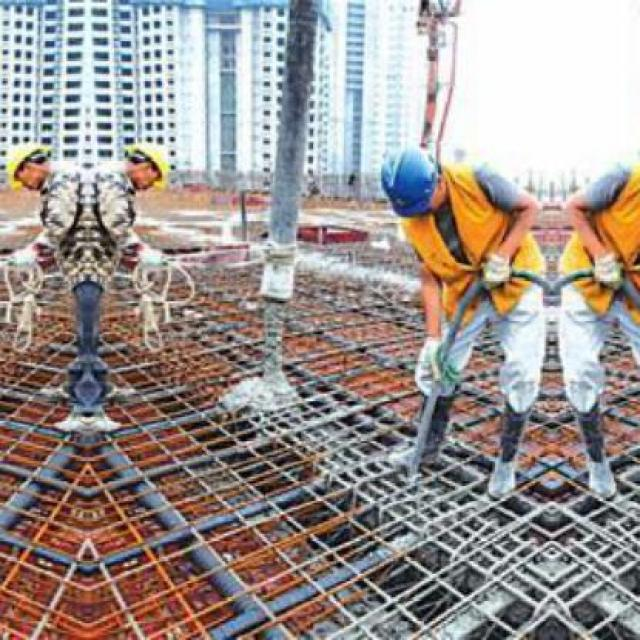Reflective-Jacket: (398, 163, 543, 305), (555, 157, 640, 318)
Safety-Helmet: (370, 140, 452, 223), (116, 131, 182, 191), (0, 134, 60, 188)
